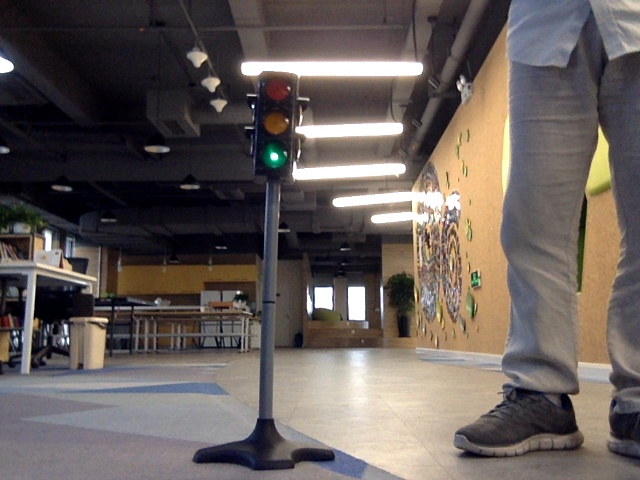green: (258, 73, 291, 171)
